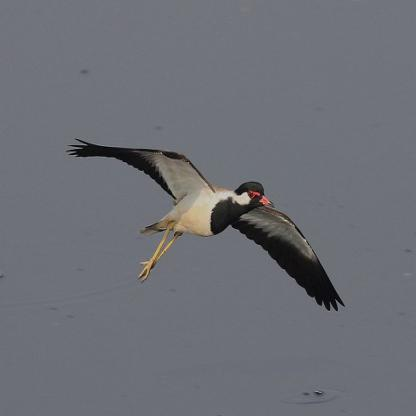Burung: (66, 138, 344, 311)
